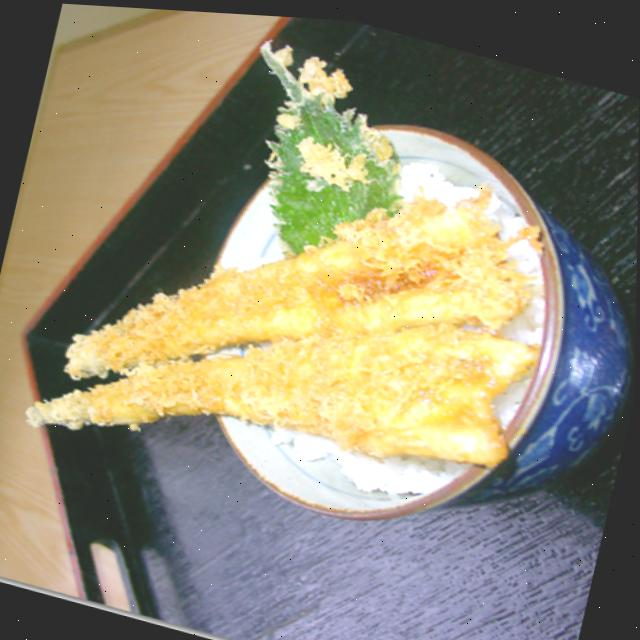熟制海鲜: (142, 41, 640, 608)
